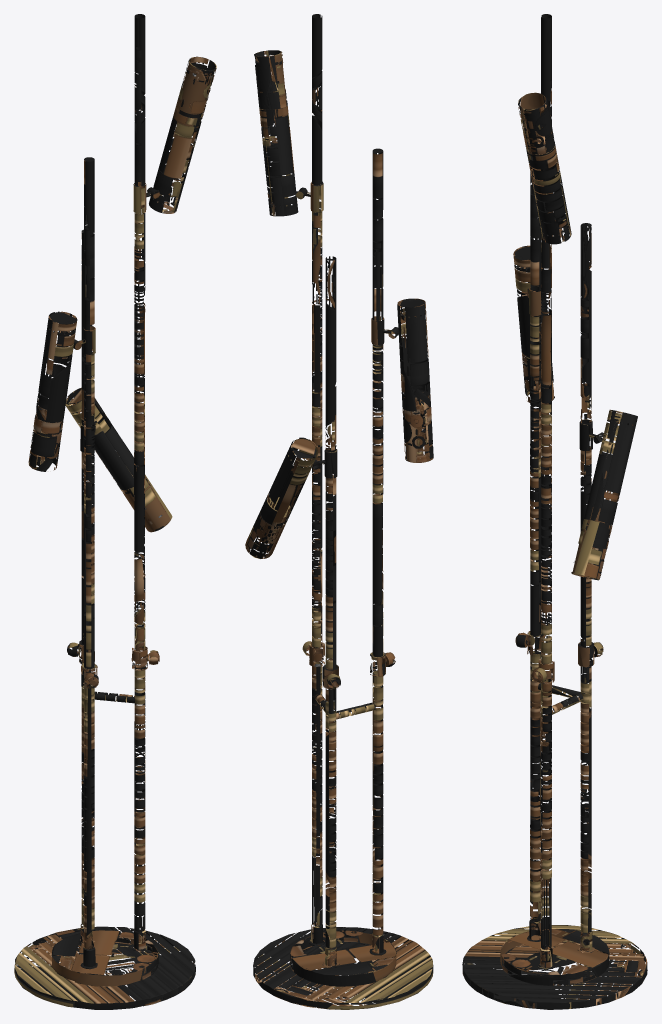
File: raw_model.obj
3 renders of one model, left to right at view 1: azimuth 30°, elevation 25°; view 2: azimuth 150°, elevation 25°; view 3: azimuth 270°, elevation 25°, orthographic. The views are drawn at different scales.
Parts seen in each view (by area): view 1: solid_001, solid_002, solid_007, solid_003; view 2: solid_001, solid_002, solid_007, solid_003; view 3: solid_001, solid_002, solid_007, solid_003.
Part boxes in pixels (x1,y1,x2,y2): solid_001: (14,56,215,1009); solid_002: (28,57,216,986); solid_007: (131,14,147,951); solid_003: (67,187,159,969); solid_001: (246,50,433,1009); solid_002: (245,50,433,986); solid_007: (308,14,325,945); solid_003: (295,187,398,967); solid_001: (462,93,647,1009); solid_002: (500,92,612,985); solid_007: (537,14,554,969); solid_003: (515,211,605,952).
Size of the model in its own units: 0.3547 by 1.79 by 0.3089.
Materials: 1 (1 with a texture image).
